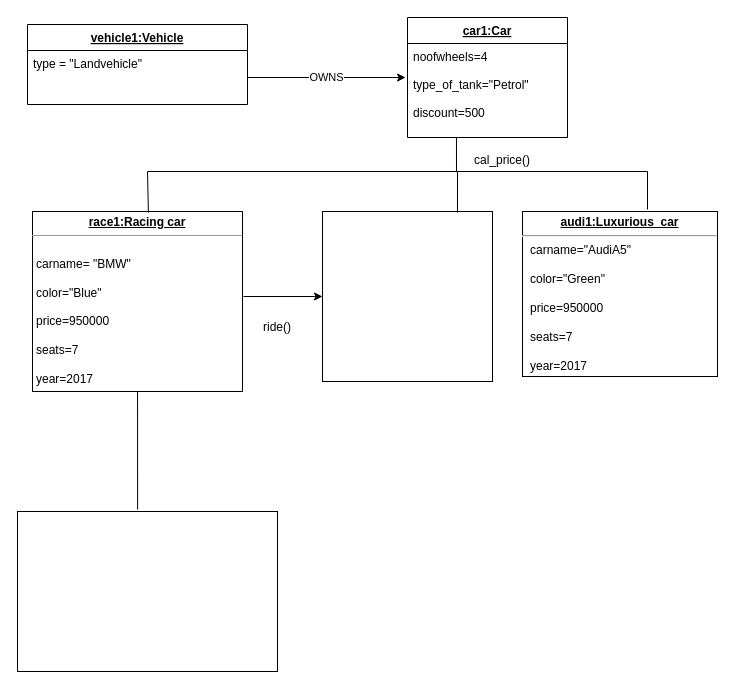
This 735x689 diagram has some shape labels left out. Here are the shapes that lost their labels. From the top down, the centre of each, then its label:
point (407, 296): sports1:Sports_car carname="Mazda" color="White price=700500 seats=4 year=2017
point (147, 591): Chev:Racing_car carname="Chevrolet" color="White" price=700000 seats=6 year=2010
